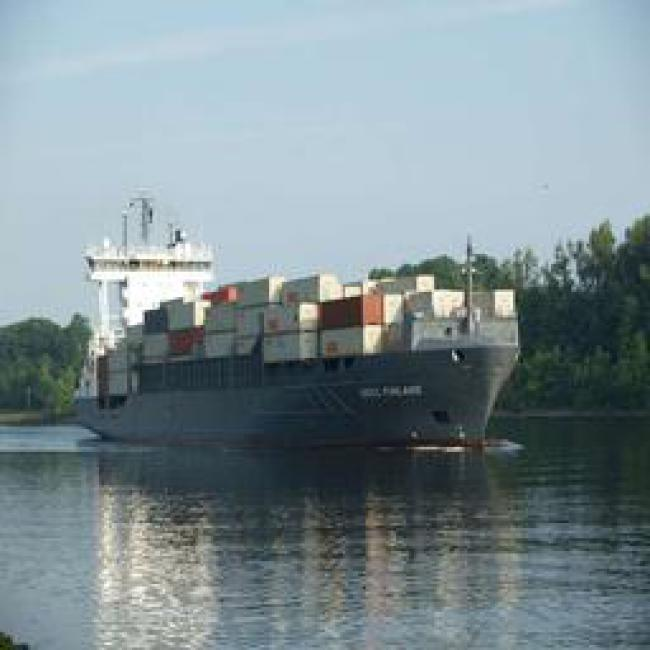Ship: (38, 263, 526, 480)
